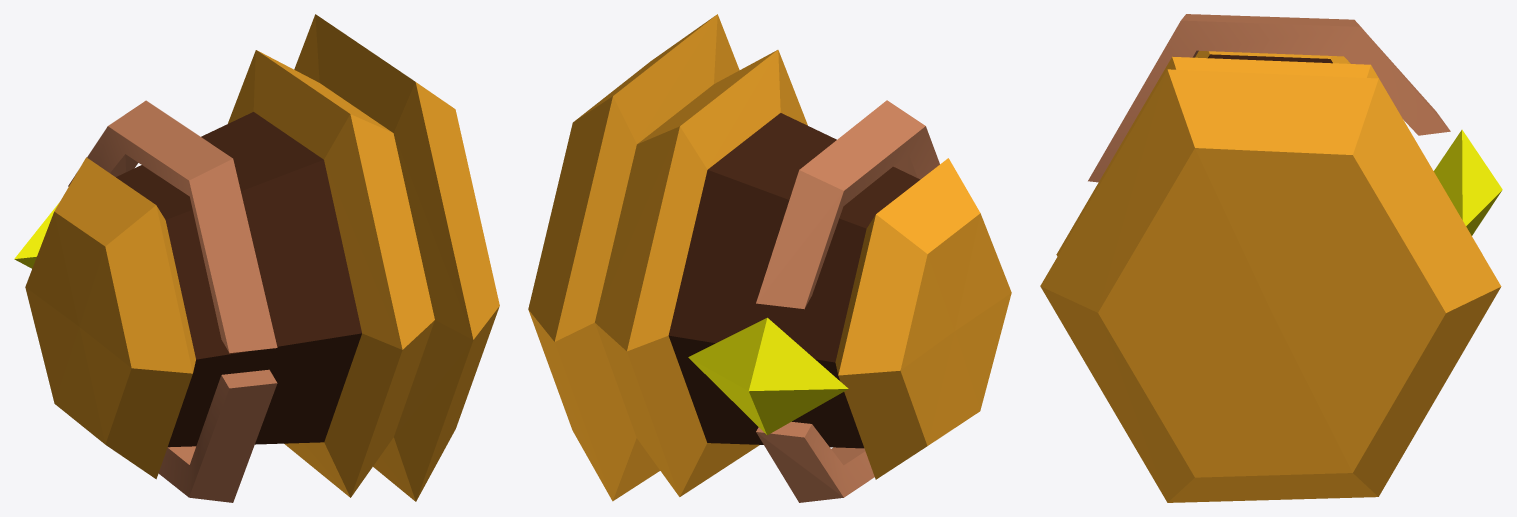
File: Bracer 10.FBX
3 views of the same model, side by side, from view 1: azimuth 30°, elevation 25°; view 2: azimuth 150°, elevation 25°; view 3: azimuth 270°, elevation 25° (orthographic). The views are drawn at different scales.
Parts seen in each view (by area): view 1: Bracer 10; view 2: Bracer 10; view 3: Bracer 10.
Boxes of the visible parts, <box> form: Bracer 10: <box>14,14,499,502</box>; Bracer 10: <box>528,14,1011,502</box>; Bracer 10: <box>1040,14,1502,502</box>.
Size of the model in its own units: 22.92 by 25.81 by 26.69.
1 material, 1 textured.
